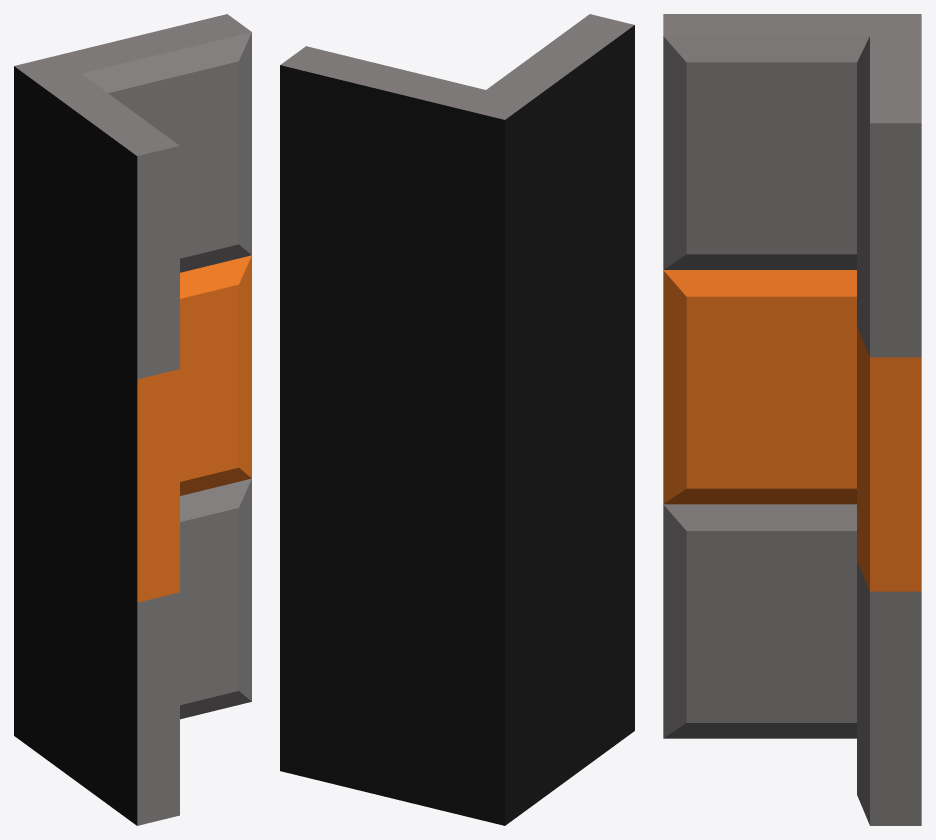
File: scifi_scifi-wall-corner-stripe.fbx
3 views of the same model, side by side, from view 1: azimuth 30°, elevation 25°; view 2: azimuth 150°, elevation 25°; view 3: azimuth 270°, elevation 25° (orthographic). The views are drawn at different scales.
Visible parts, largest first — view 1: scifi_scifi_wall_corner_stripe; view 2: scifi_scifi_wall_corner_stripe; view 3: scifi_scifi_wall_corner_stripe.
Boxes of the visible parts, x1=… form: scifi_scifi_wall_corner_stripe: x1=14, y1=14, x2=251, y2=825; scifi_scifi_wall_corner_stripe: x1=280, y1=14, x2=634, y2=825; scifi_scifi_wall_corner_stripe: x1=663, y1=14, x2=921, y2=825.
Size of the model in its own units: 66.67 by 200 by 66.67.
